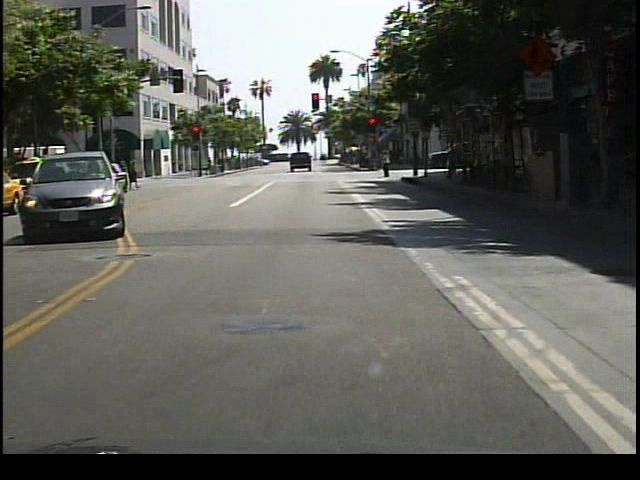person: (409, 144, 425, 174), (379, 150, 395, 178)
